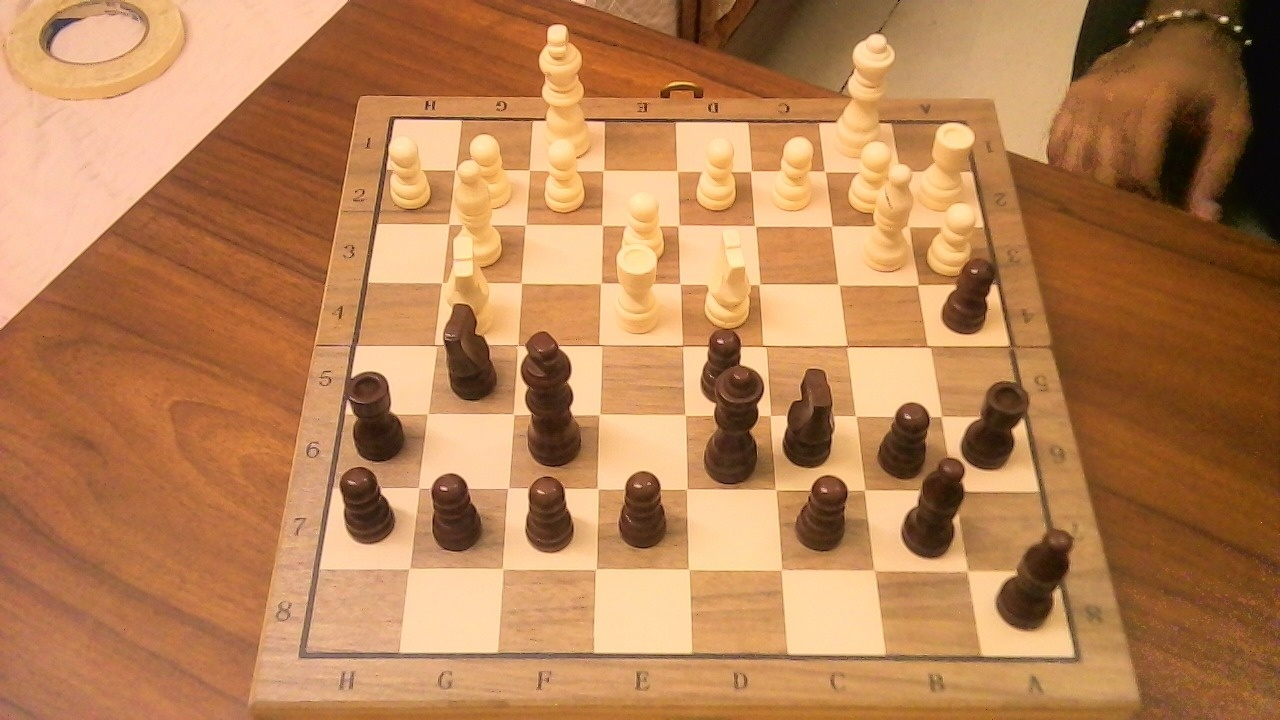B: (855, 154, 923, 278), (448, 148, 513, 271)
K: (534, 13, 598, 162)
N: (692, 238, 759, 328), (455, 232, 499, 316)
P: (610, 181, 671, 279), (841, 132, 905, 219), (923, 193, 985, 279), (763, 127, 822, 215), (459, 126, 518, 213), (535, 129, 591, 217), (688, 128, 745, 214), (383, 129, 437, 211)
Q: (829, 21, 900, 164)
R: (917, 111, 983, 217), (606, 232, 669, 340)
b: (992, 515, 1085, 636), (918, 445, 979, 564)
k: (517, 321, 593, 469)
n: (435, 288, 508, 405), (778, 354, 850, 470)
p: (330, 455, 406, 548), (421, 462, 494, 553), (937, 247, 1006, 338), (692, 318, 753, 407), (880, 400, 942, 480), (618, 470, 668, 550), (522, 477, 576, 550), (803, 475, 853, 550)
q: (697, 353, 775, 487)
r: (956, 368, 1039, 471), (341, 358, 415, 464)
